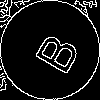B: (25, 25, 82, 77)
